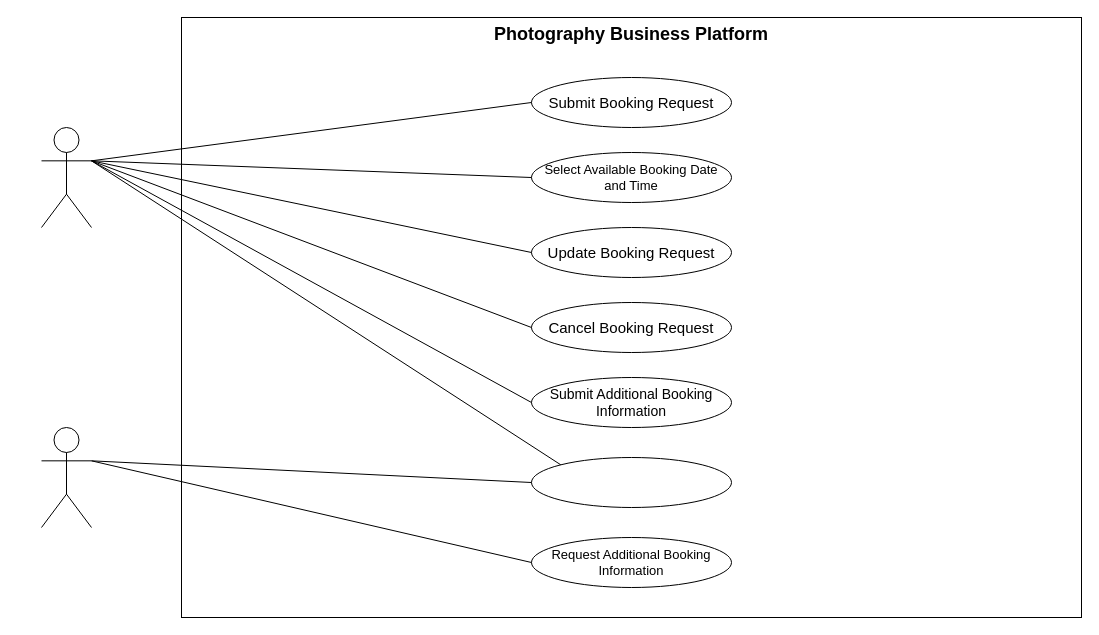
Some shapes in this 1099 by 635 pixel diagram are drawn without their labels. Here are the shapes that lost their labels. From the top down, the box of each, then its label:
(40, 126, 92, 228): Client
(40, 426, 92, 528): Email Service
(530, 456, 732, 508): Receive Booking Notifications
